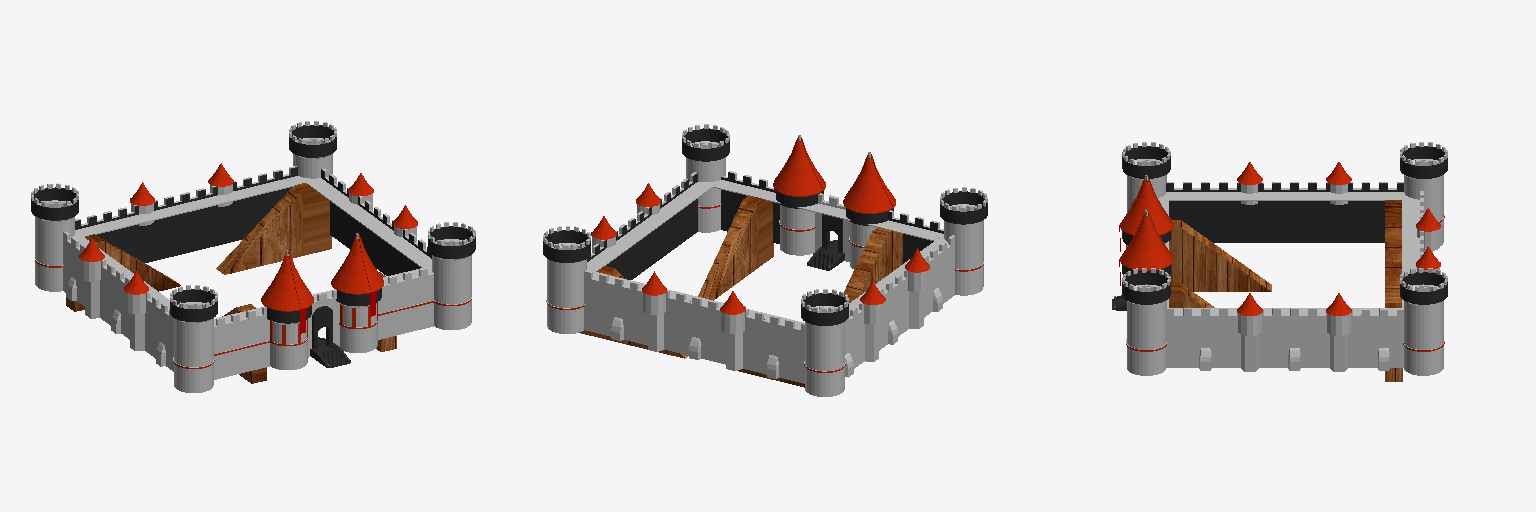
3 renders of one model, left to right at view 1: azimuth 30°, elevation 25°; view 2: azimuth 150°, elevation 25°; view 3: azimuth 270°, elevation 25°, orthographic.
Visible parts, largest first — view 1: Castle_Catle.006, Cube.003_Cube.012, Cube.004_Cube.007, Cube.002_Cube.011, Castle.003_Catle.009; view 2: Castle_Catle.006, Cube.004_Cube.007, Cube.001_Cube.010, Cube_Cube.002, Castle.003_Catle.009; view 3: Castle_Catle.006, Cube_Cube.002, Cube.004_Cube.007, Cube.002_Cube.011, Cube.001_Cube.010.
Boxes of the visible parts, x1,y1,x2,y2 form: Castle_Catle.006: [31, 121, 475, 392]; Cube.003_Cube.012: [216, 183, 331, 274]; Cube.004_Cube.007: [70, 176, 431, 324]; Cube.002_Cube.011: [66, 234, 180, 311]; Castle.003_Catle.009: [310, 306, 350, 367]; Castle_Catle.006: [543, 124, 987, 396]; Cube.004_Cube.007: [587, 180, 947, 327]; Cube.001_Cube.010: [698, 196, 773, 300]; Cube_Cube.002: [844, 227, 902, 302]; Castle.003_Catle.009: [807, 214, 844, 270]; Castle_Catle.006: [1119, 142, 1447, 375]; Cube_Cube.002: [1169, 220, 1271, 291]; Cube.004_Cube.007: [1158, 192, 1419, 313]; Cube.002_Cube.011: [1385, 200, 1401, 302]; Cube.001_Cube.010: [1169, 283, 1214, 307].
Size of the model in its own units: 234 by 94.17 by 228.
6 materials, 1 textured.